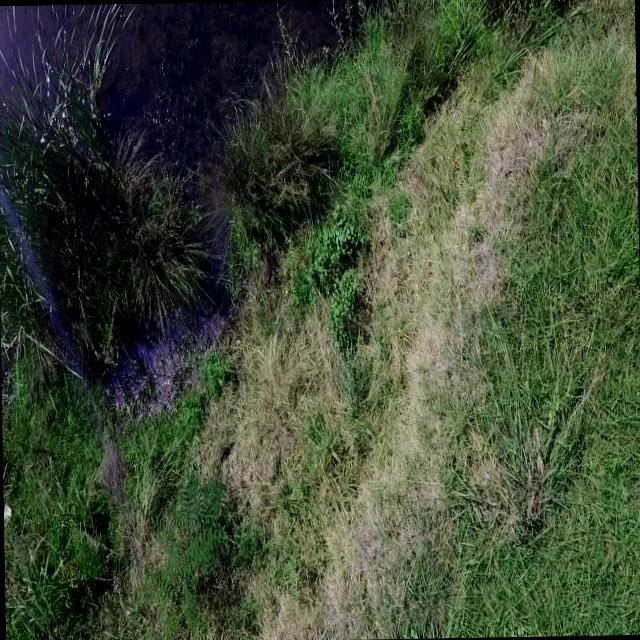Mysore-Thorn-Weed: (138, 463, 239, 640)
